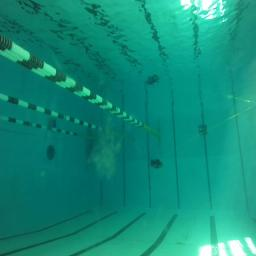Full: (198, 129, 210, 136)
Side: (150, 157, 163, 169)
